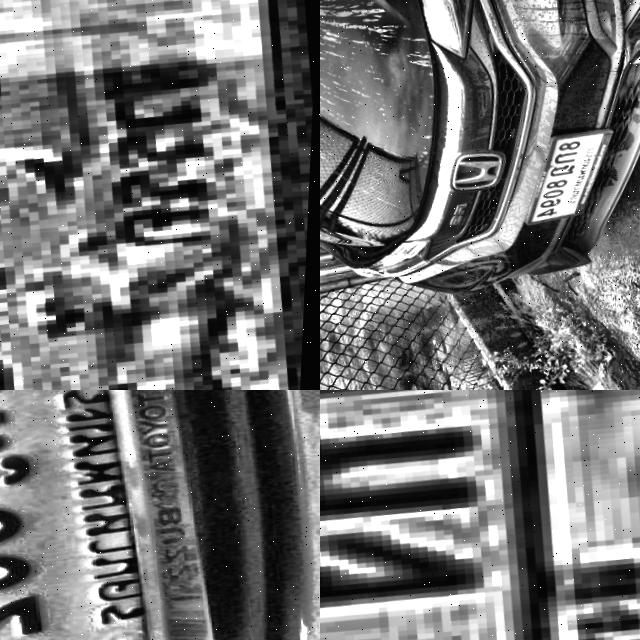license-plate: (0, 0, 320, 390), (320, 390, 640, 640), (0, 390, 271, 640), (514, 120, 627, 228)
